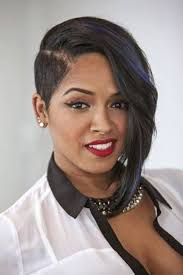black_female: (38, 45, 154, 177)
